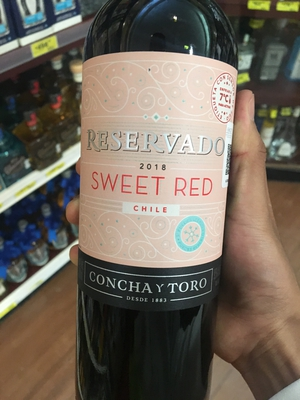reservado sweet red: (74, 6, 237, 400)
